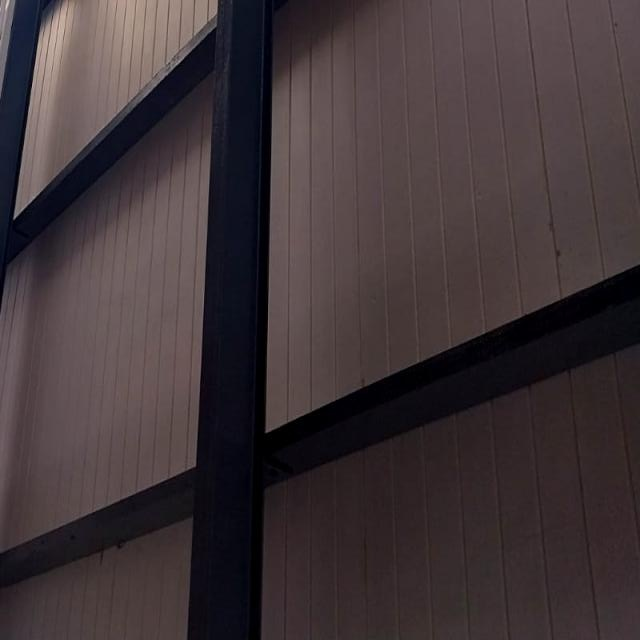fluorescent tube: (0, 0, 27, 237)
